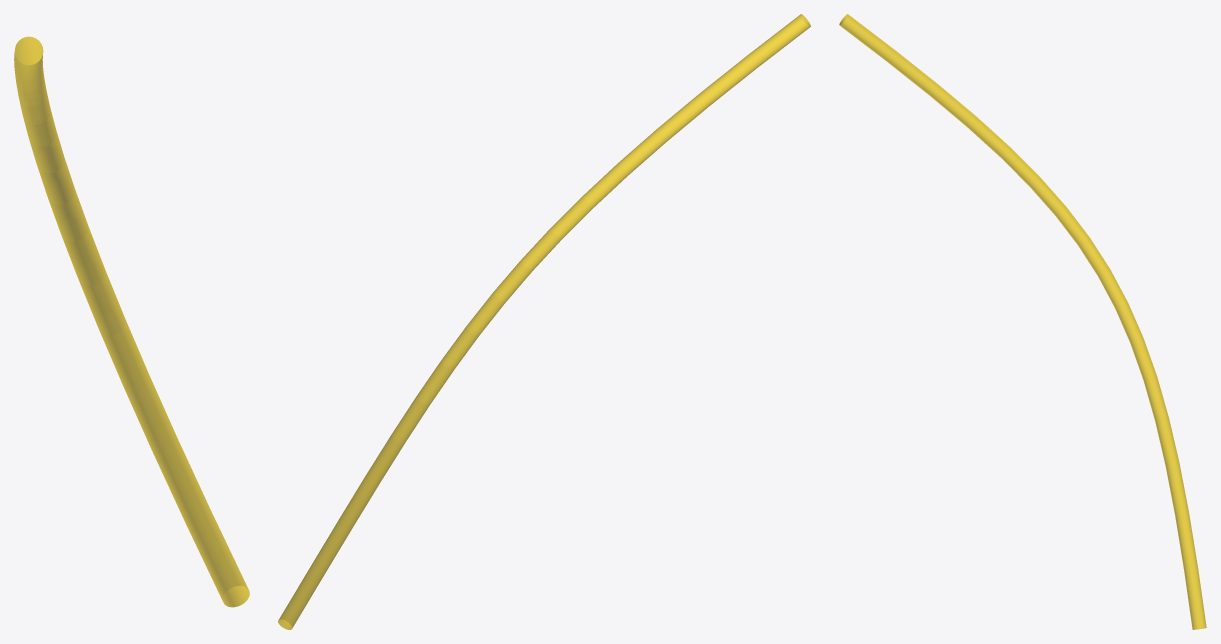
The model's file is Event_84804159_track_101.fbx.
3 views of the same model, side by side, from view 1: azimuth 30°, elevation 25°; view 2: azimuth 150°, elevation 25°; view 3: azimuth 270°, elevation 25° (orthographic). The views are drawn at different scales.
Visible parts, largest first — view 1: Model; view 2: Model; view 3: Model.
Boxes of the visible parts, left/top/right/bottom form: Model: left=14, top=36, right=249, bottom=607; Model: left=278, top=14, right=810, bottom=629; Model: left=839, top=14, right=1206, bottom=629.
Bounding box in the file's own units: 0.943 × 1.48 × 1.03.
